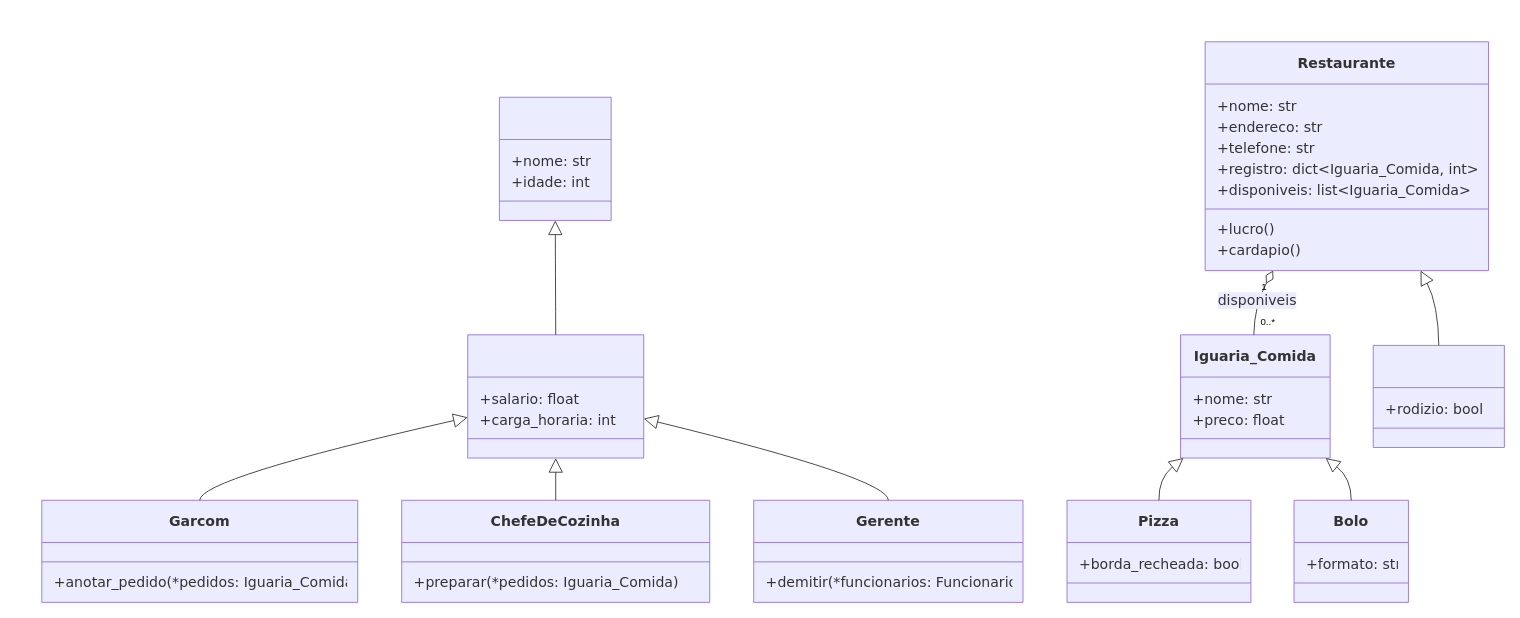
This 1520x618 diagram has some shape labels left out. The shapes that lost their labels are listed below. From the top down, each one's box as (x1, y1, x2, y2) in pixels, then its label:
(499, 96, 611, 220): Pessoa
(467, 334, 644, 458): Funcionario
(1372, 345, 1504, 447): Pizzaria
